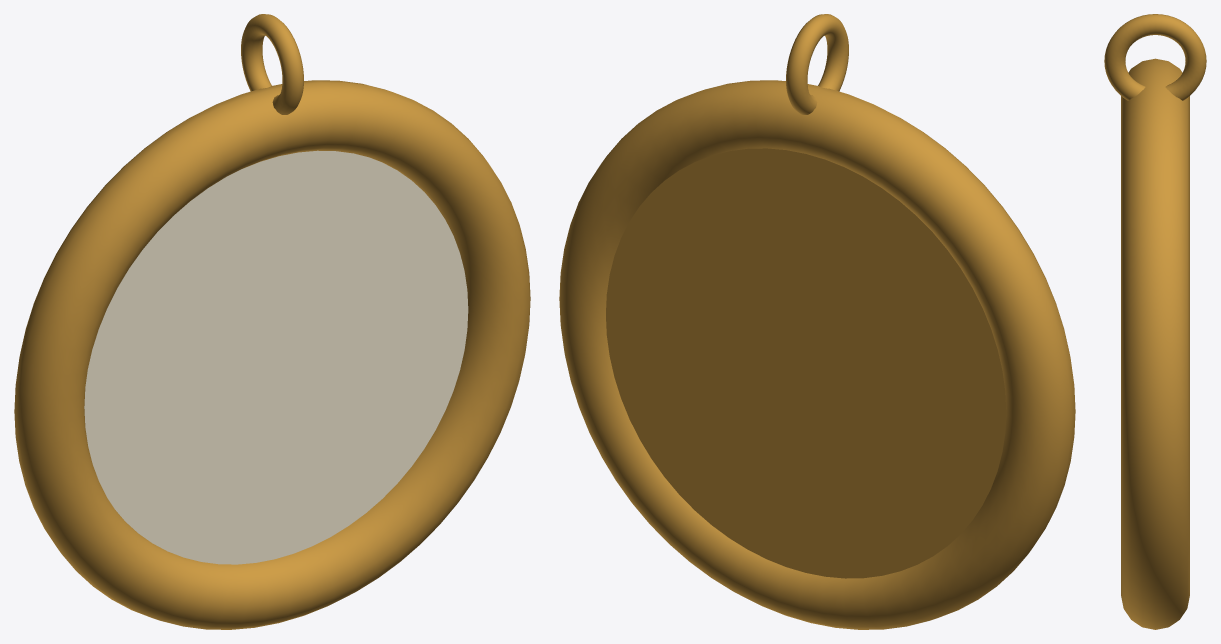
Rendered from person_node.glb.
3 renders of one model, left to right at view 1: azimuth 30°, elevation 25°; view 2: azimuth 150°, elevation 25°; view 3: azimuth 270°, elevation 25°, orthographic. The views are drawn at different scales.
Visible parts, largest first — view 1: Portrait, Frame, Hook; view 2: BackPlate, Frame, Hook; view 3: Frame, Hook.
Part boxes in pixels (x1=…): Portrait: x1=84, y1=150, x2=468, y2=564; Frame: x1=14, y1=80, x2=530, y2=629; Hook: x1=241, y1=14, x2=303, y2=114; BackPlate: x1=606, y1=148, x2=1006, y2=578; Frame: x1=559, y1=80, x2=1075, y2=629; Hook: x1=786, y1=14, x2=848, y2=114; Frame: x1=1121, y1=58, x2=1189, y2=629; Hook: x1=1104, y1=14, x2=1206, y2=100.
Size of the model in its own units: 1.41 by 1.6 by 0.252.
